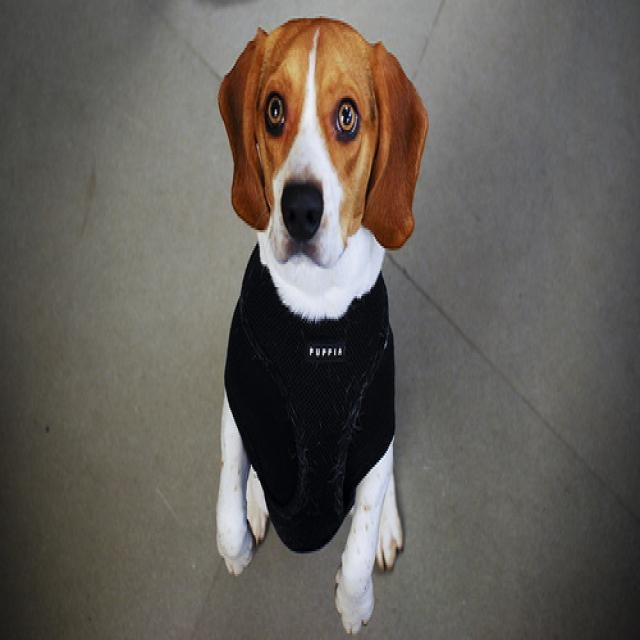dog-beagle: (211, 5, 436, 335)
